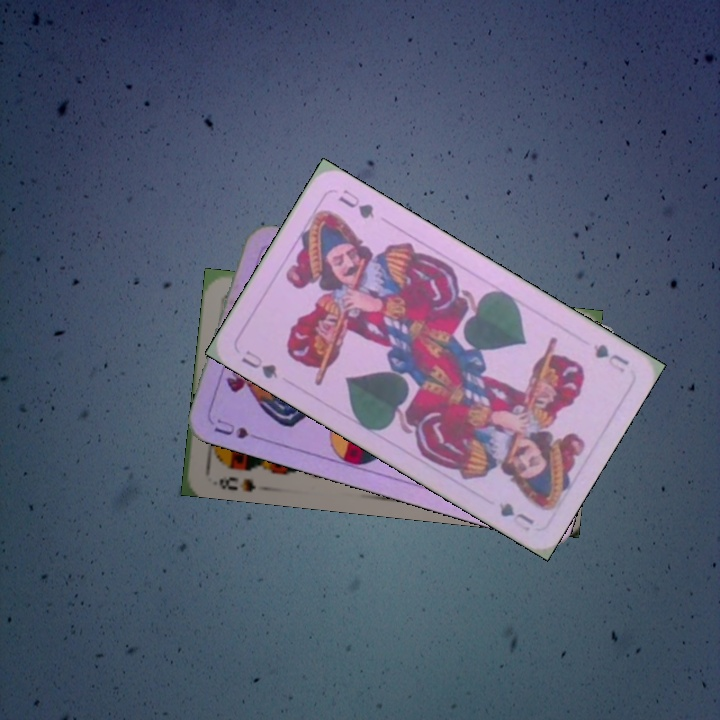GU: (589, 339, 632, 376), (237, 346, 281, 382)
S8: (215, 473, 259, 494)
SU: (209, 414, 269, 446)
